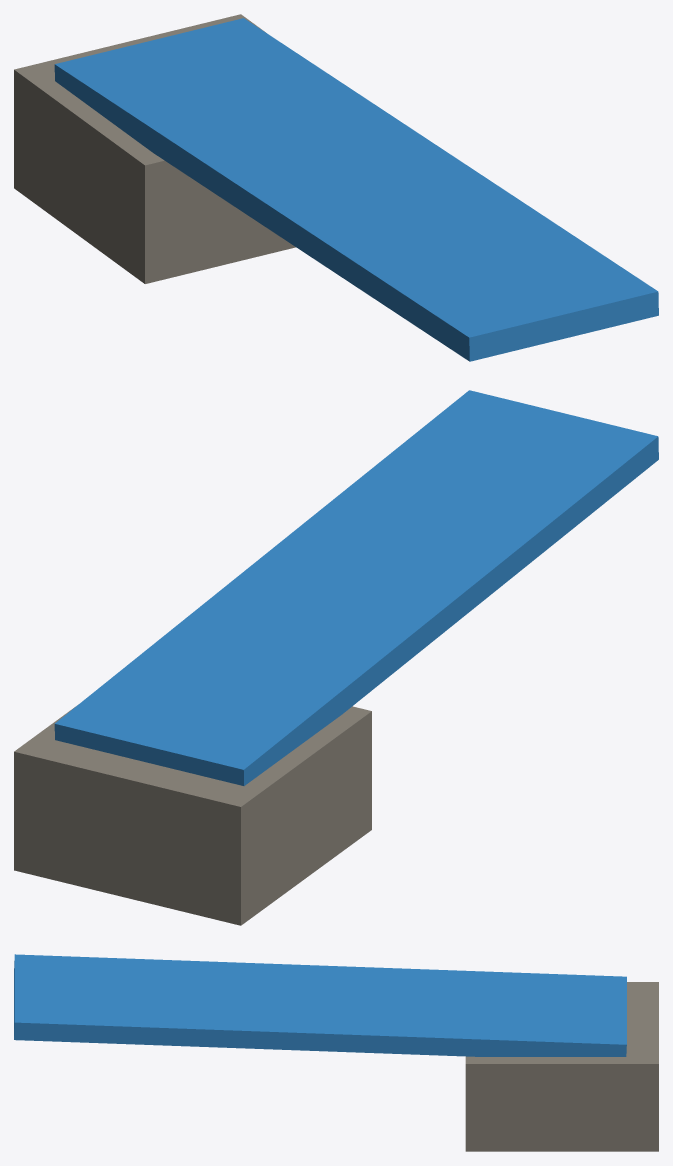
Rendered from divingBoard.glb.
The picture shows the model from 3 angles, top to bottom: view 1: azimuth 30°, elevation 25°; view 2: azimuth 150°, elevation 25°; view 3: azimuth 270°, elevation 25°; orthographic projection. The views are drawn at different scales.
Parts seen in each view (by area): view 1: divingBoard; view 2: divingBoard; view 3: divingBoard.
Boxes of the visible parts, bbox=[...] form: divingBoard: bbox=[14, 14, 658, 361]; divingBoard: bbox=[14, 390, 658, 925]; divingBoard: bbox=[14, 954, 658, 1151].
Bounding box in the file's own units: 0.6 × 0.418 × 2.
